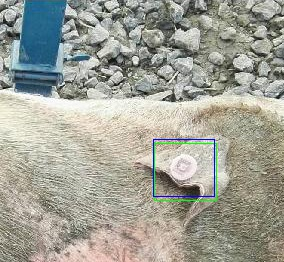text: (154, 143, 216, 200)
